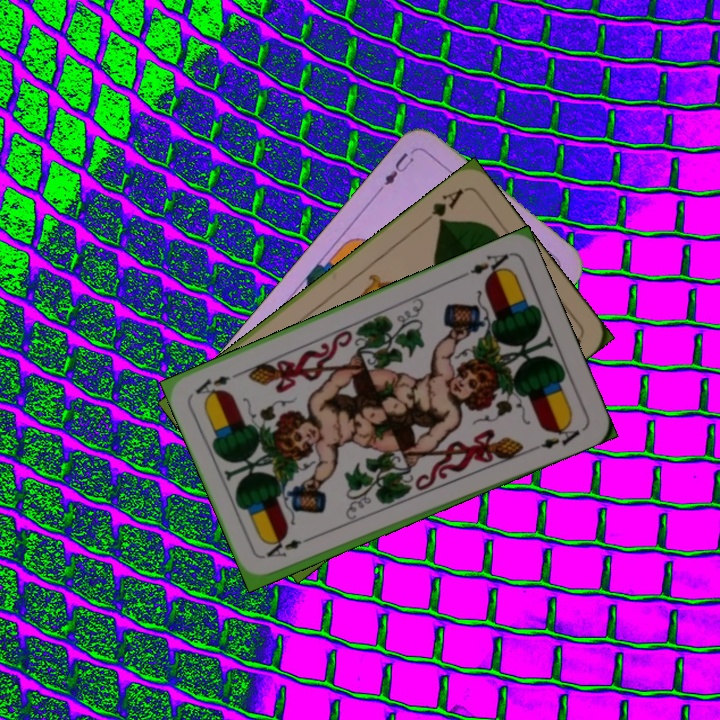EA: (457, 250, 512, 281), (262, 531, 317, 560)
EU: (375, 148, 417, 194)
GA: (417, 184, 466, 228)
